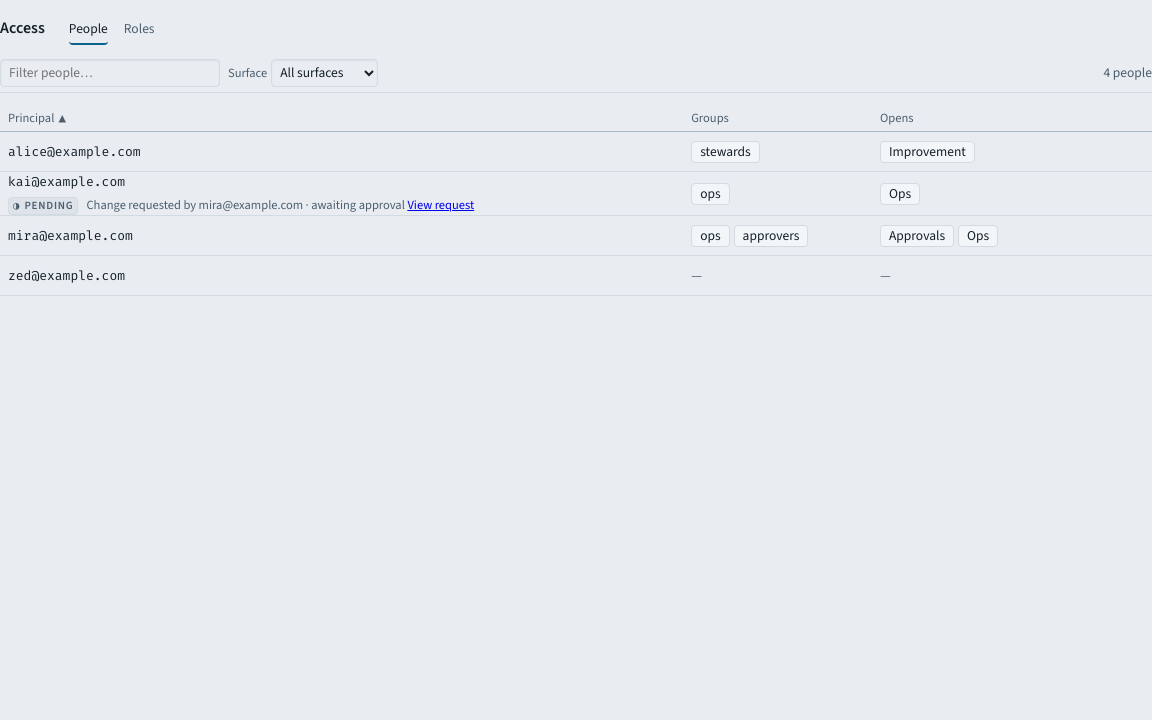
Test: §15 People — the row pane › opens on the row and names the full group list and the per-surface provenance
Click the text "mira@example.com" at (70, 236), box [8,226,133,246]
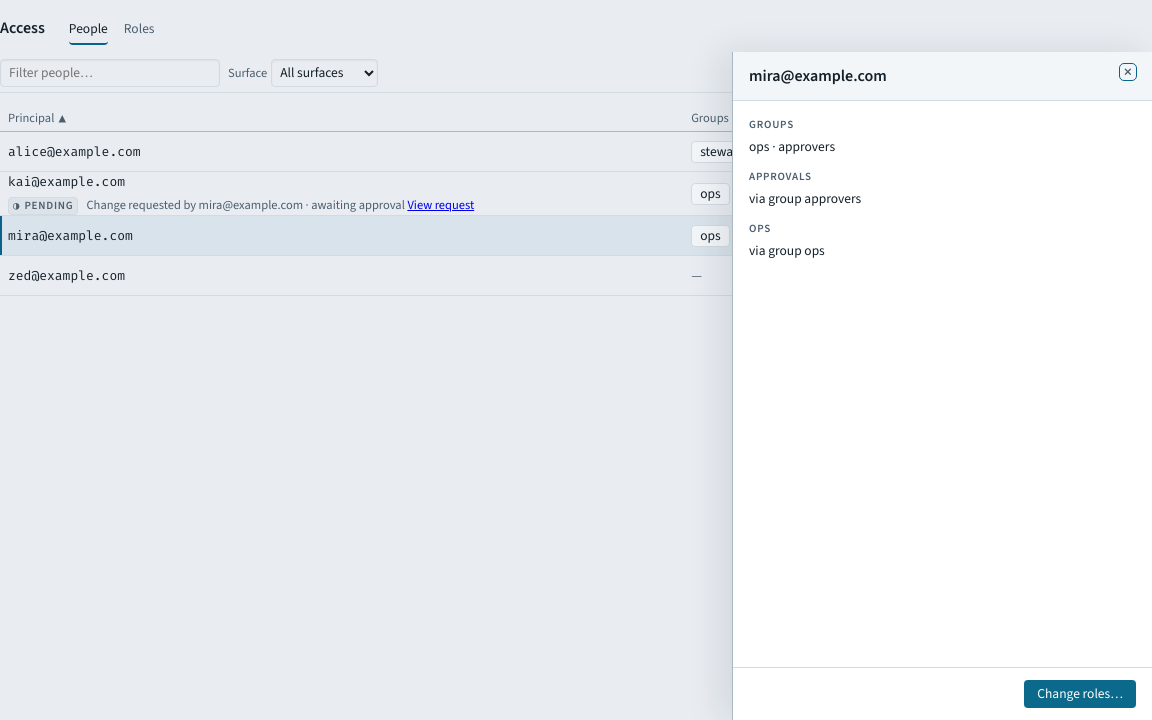
Result: the text "ops · approvers" is shown at [749,137,835,156]
Result: the text "via group approvers" is shown at [749,189,861,208]
Result: the text "via group ops" is shown at [749,241,825,260]
